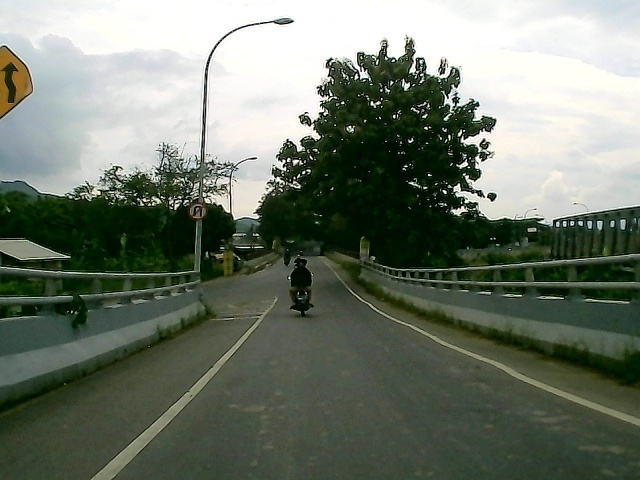Dilarang berbalik arah: (189, 203, 209, 223)
